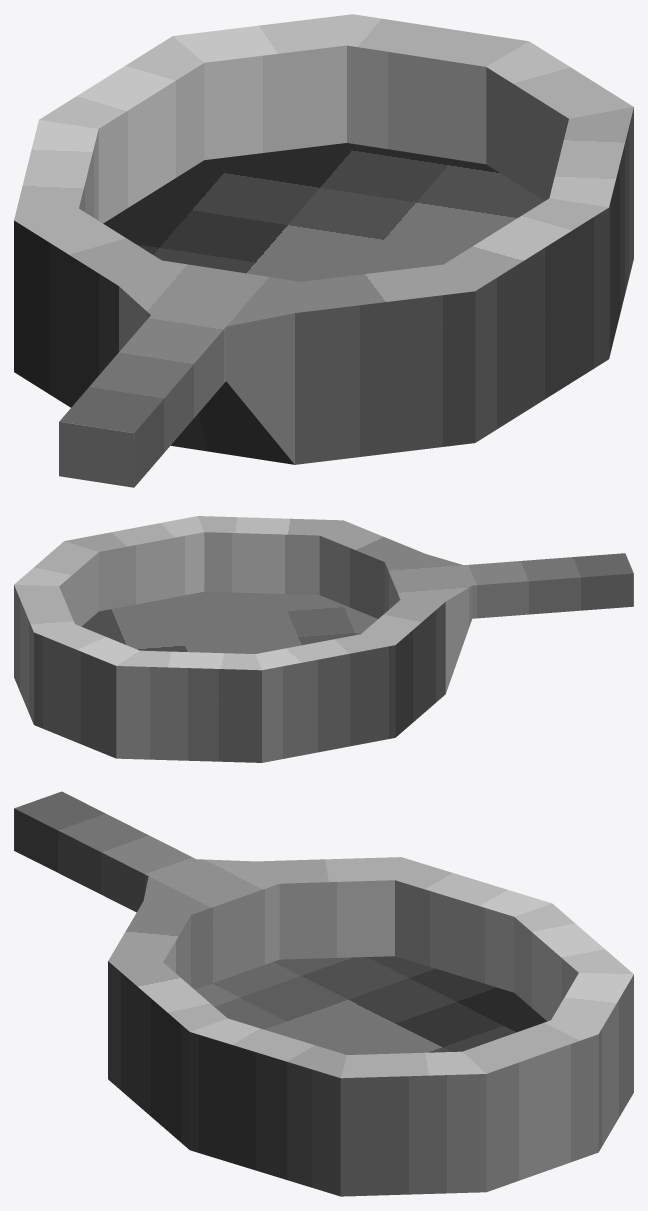
Rendered from pot_944x01.gltf.
The picture shows the model from 3 angles, top to bottom: view 1: azimuth 30°, elevation 25°; view 2: azimuth 150°, elevation 25°; view 3: azimuth 270°, elevation 25°; orthographic projection. The views are drawn at different scales.
Visible parts, largest first — view 1: pot_944x01; view 2: pot_944x01; view 3: pot_944x01.
Boxes of the visible parts, <box> form: pot_944x01: <box>14,14,633,487</box>; pot_944x01: <box>14,516,633,762</box>; pot_944x01: <box>14,791,633,1196</box>.
Size of the model in its own units: 1.62 by 0.3117 by 1.48.
1 material, 1 textured.
